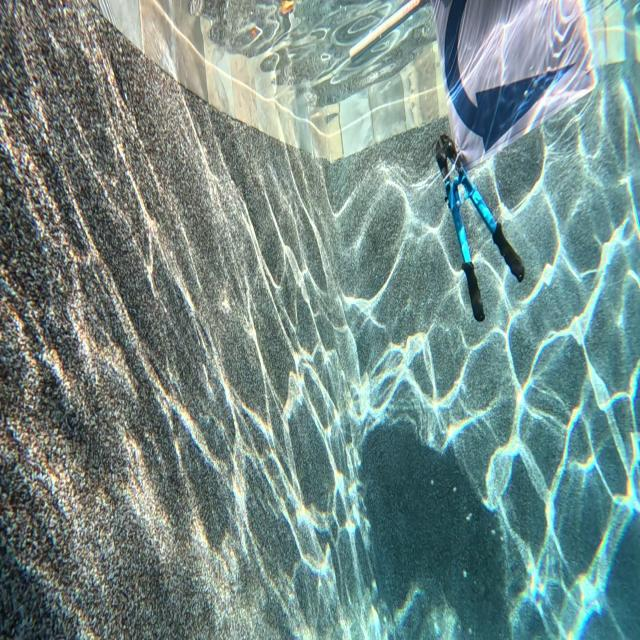blue_side: (431, 0, 591, 161)
